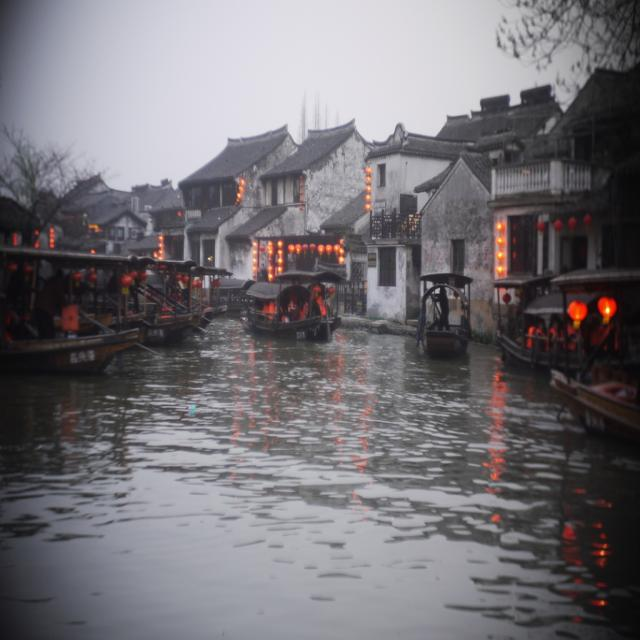Boat: (549, 272, 640, 432), (229, 248, 348, 334), (491, 271, 564, 371), (416, 272, 473, 360)
